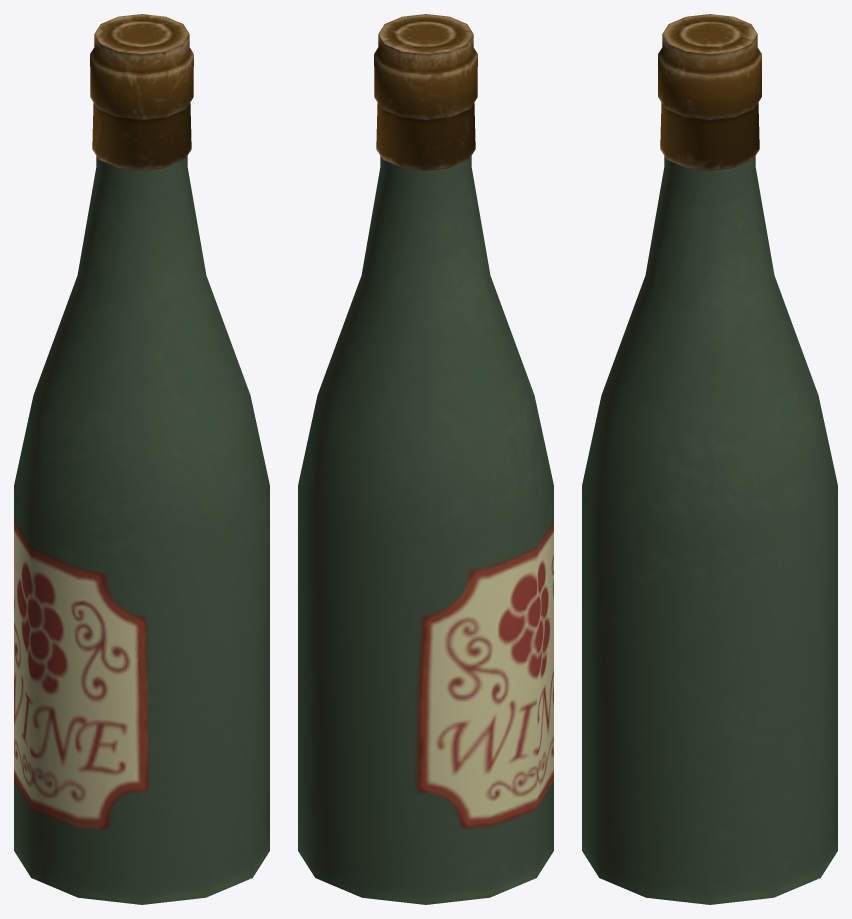
Rendered from LOD0_corkedSmallBottle_wLabel_1.fbx.
3 views of the same model, side by side, from view 1: azimuth 30°, elevation 25°; view 2: azimuth 150°, elevation 25°; view 3: azimuth 270°, elevation 25° (orthographic).
Visible parts, largest first — view 1: LOD0_corkedSmallBottle_wLabel_1; view 2: LOD0_corkedSmallBottle_wLabel_1; view 3: LOD0_corkedSmallBottle_wLabel_1.
Part boxes in pixels (bbox=[...]): LOD0_corkedSmallBottle_wLabel_1: bbox=[14, 14, 269, 904]; LOD0_corkedSmallBottle_wLabel_1: bbox=[298, 14, 553, 904]; LOD0_corkedSmallBottle_wLabel_1: bbox=[582, 14, 837, 904].
Size of the model in its own units: 0.0929 by 0.3272 by 0.0929.
